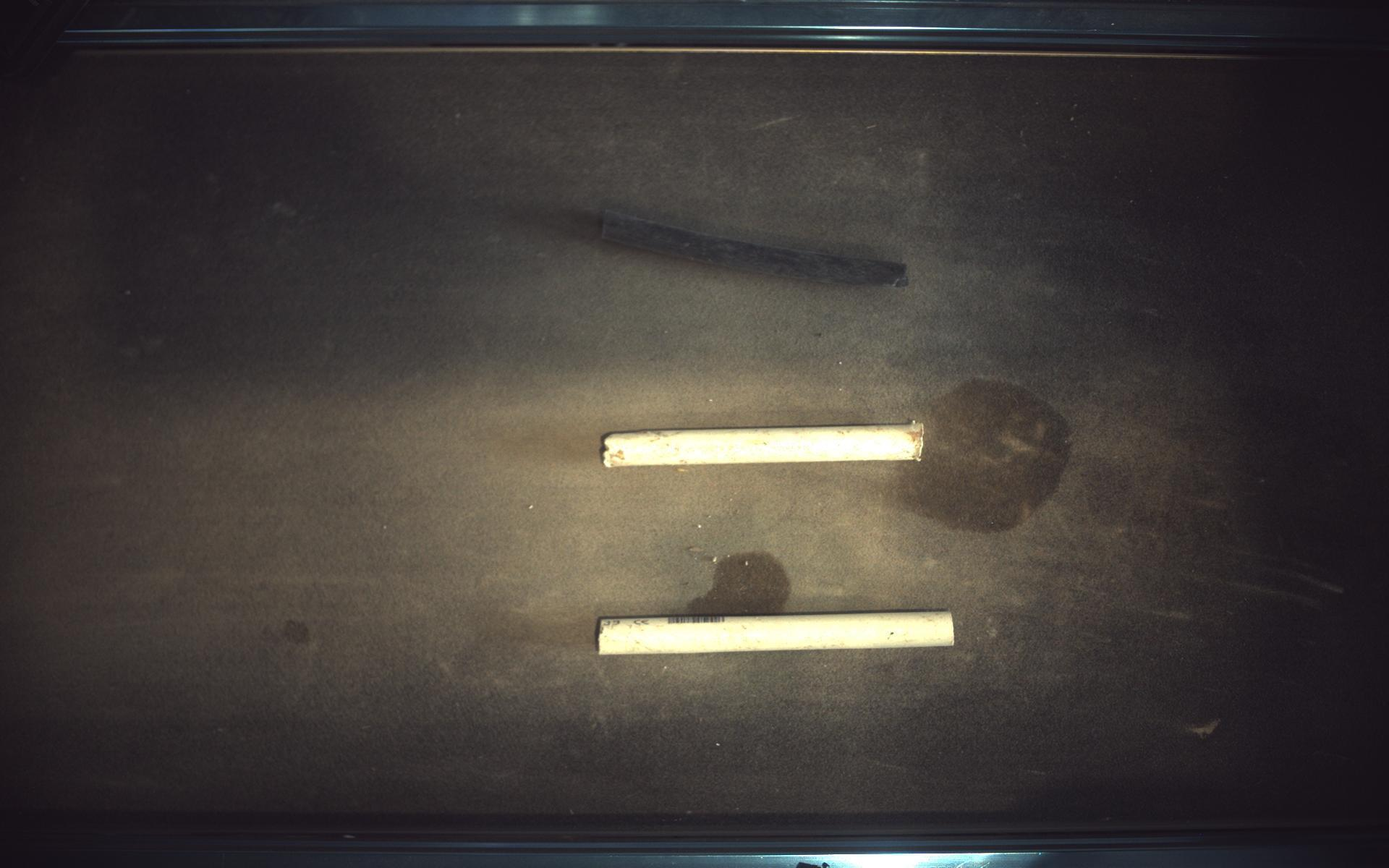pipes: (603, 210, 910, 287), (598, 612, 956, 656), (602, 422, 926, 468)
